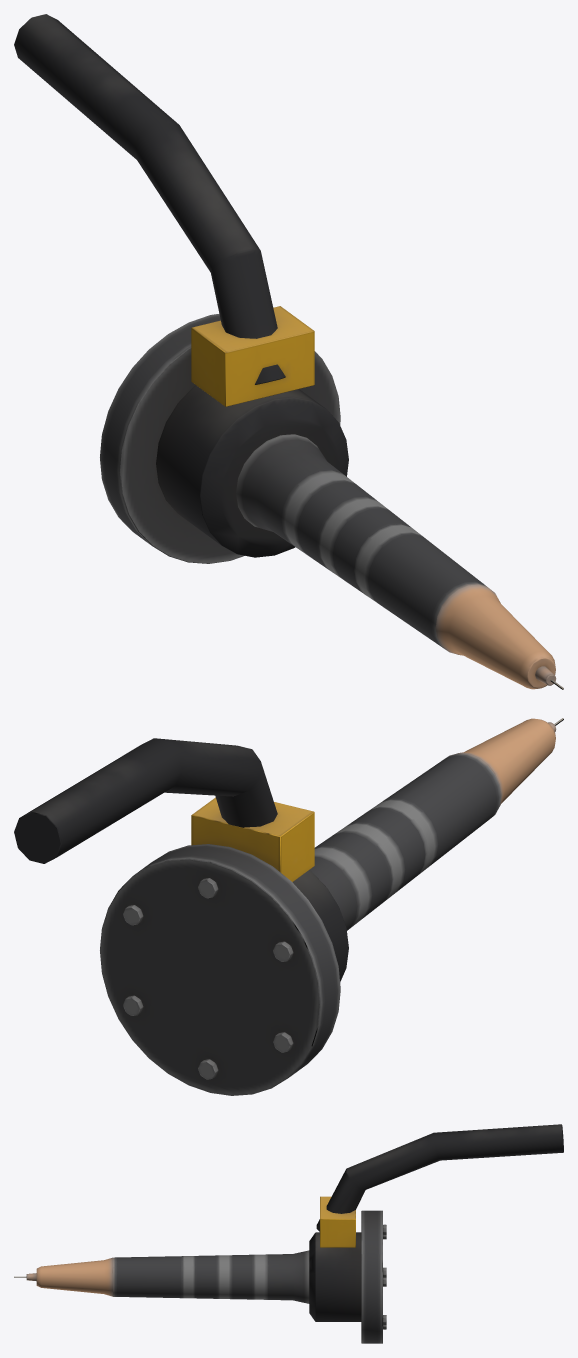
The model's file is WeldingTorch.fbx.
3 renders of one model, top to bottom at view 1: azimuth 30°, elevation 25°; view 2: azimuth 150°, elevation 25°; view 3: azimuth 270°, elevation 25°, orthographic. The views are drawn at different scales.
Parts seen in each view (by area): view 1: WeldingTorch_LOD0; view 2: WeldingTorch_LOD0; view 3: WeldingTorch_LOD0.
Part boxes in pixels (left/top/right/bottom): WeldingTorch_LOD0: left=14, top=14, right=563, bottom=689; WeldingTorch_LOD0: left=14, top=718, right=563, bottom=1095; WeldingTorch_LOD0: left=14, top=1124, right=563, bottom=1343.
Size of what is drawn, in the model's own units: 0.148 by 0.2591 by 0.6111.
Materials: 1 (1 with a texture image).
